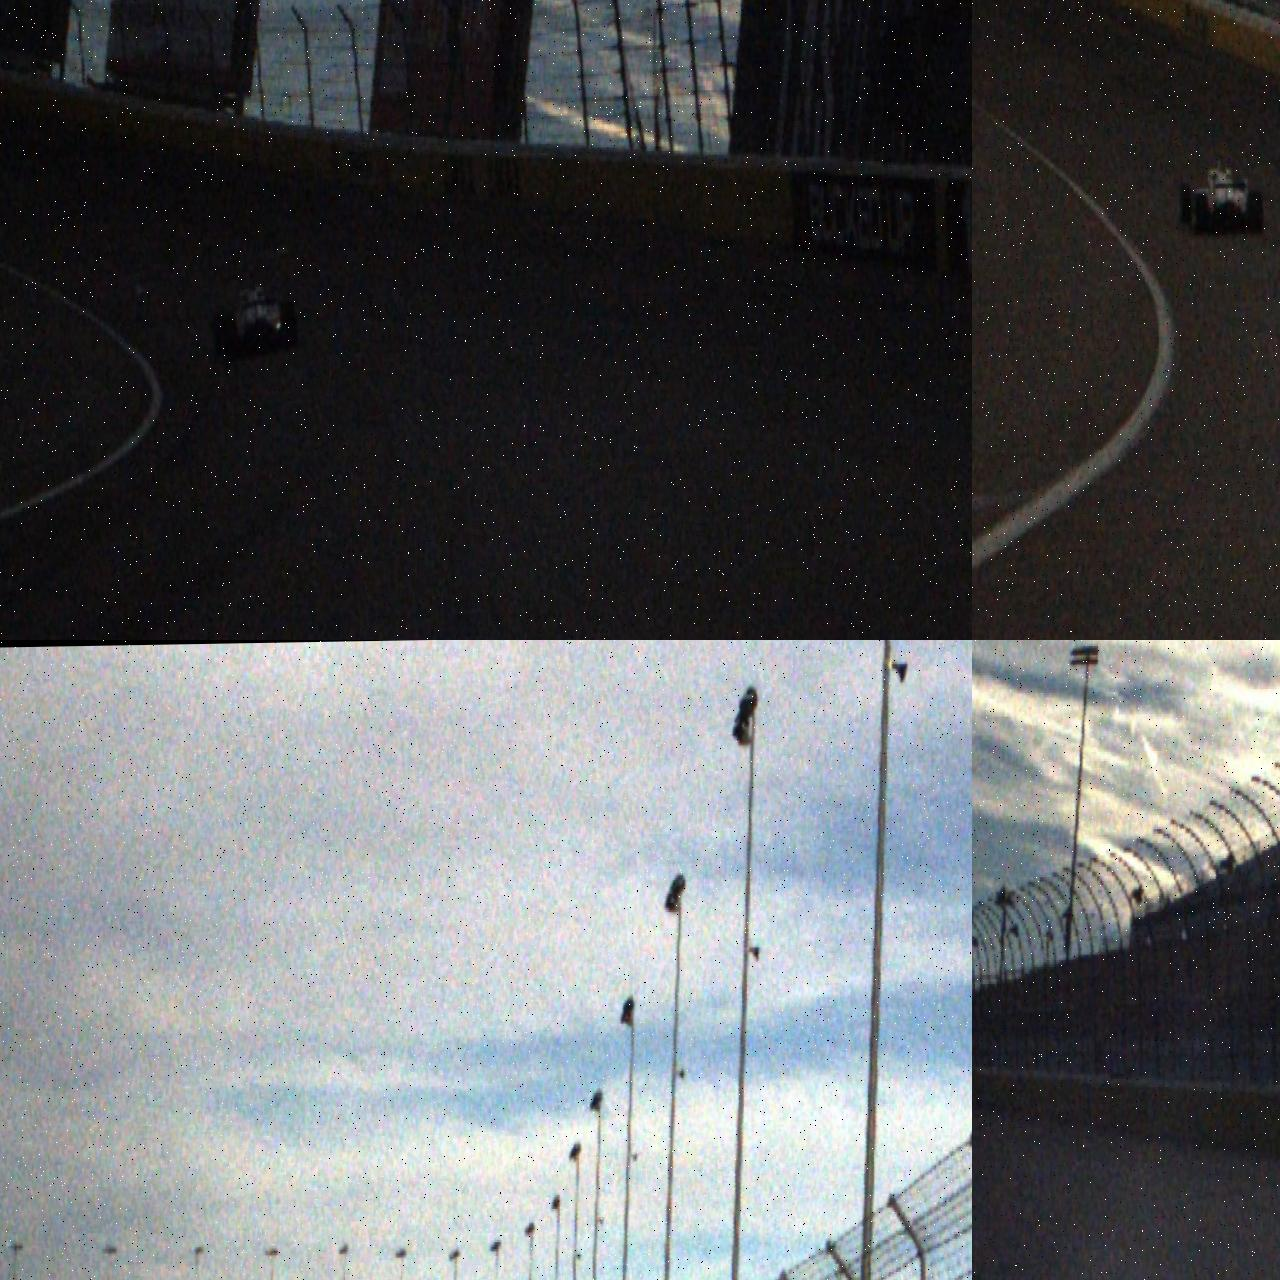AV: (213, 275, 299, 361), (1178, 156, 1265, 236)
Wheel: (282, 302, 299, 352), (1246, 191, 1264, 234), (222, 313, 237, 358), (1192, 195, 1208, 236), (1178, 183, 1192, 225)
